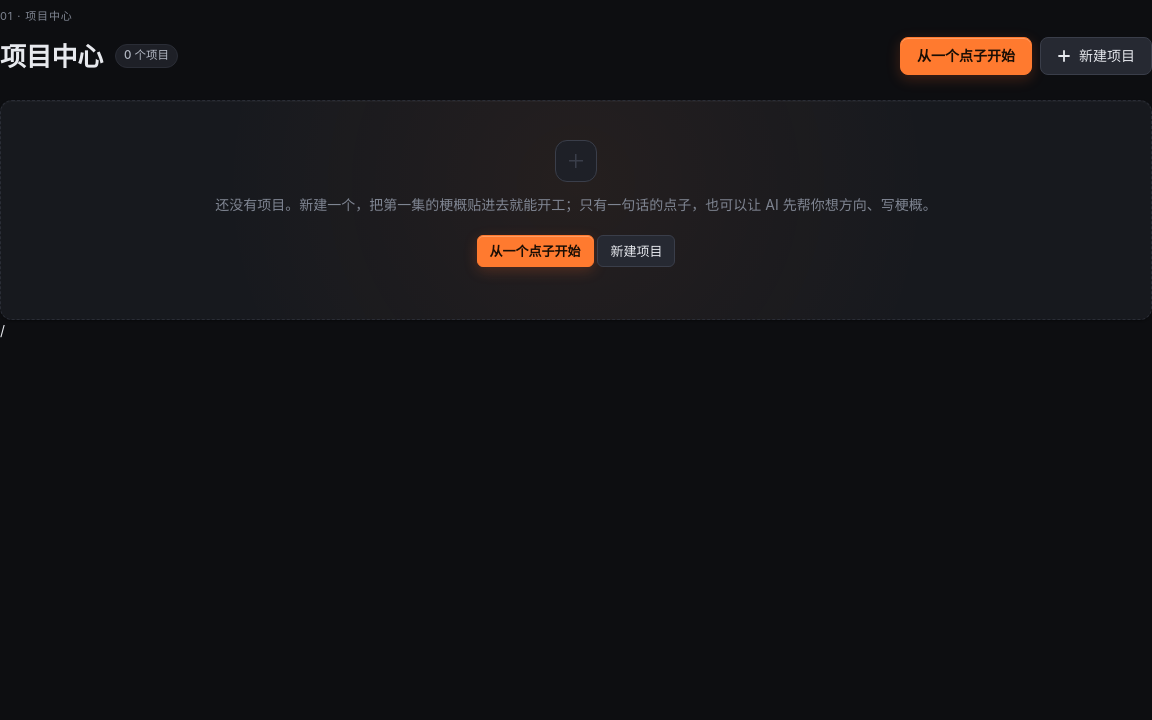
Test: ProjectsPage › 新建项目：设置页明确设了图片引擎、且在预设推荐的引擎里时用设置的
The image size is (1152, 720).
Click the button "新建项目" in the row of "个项目": (1096, 56) [1040,37,1151,75]
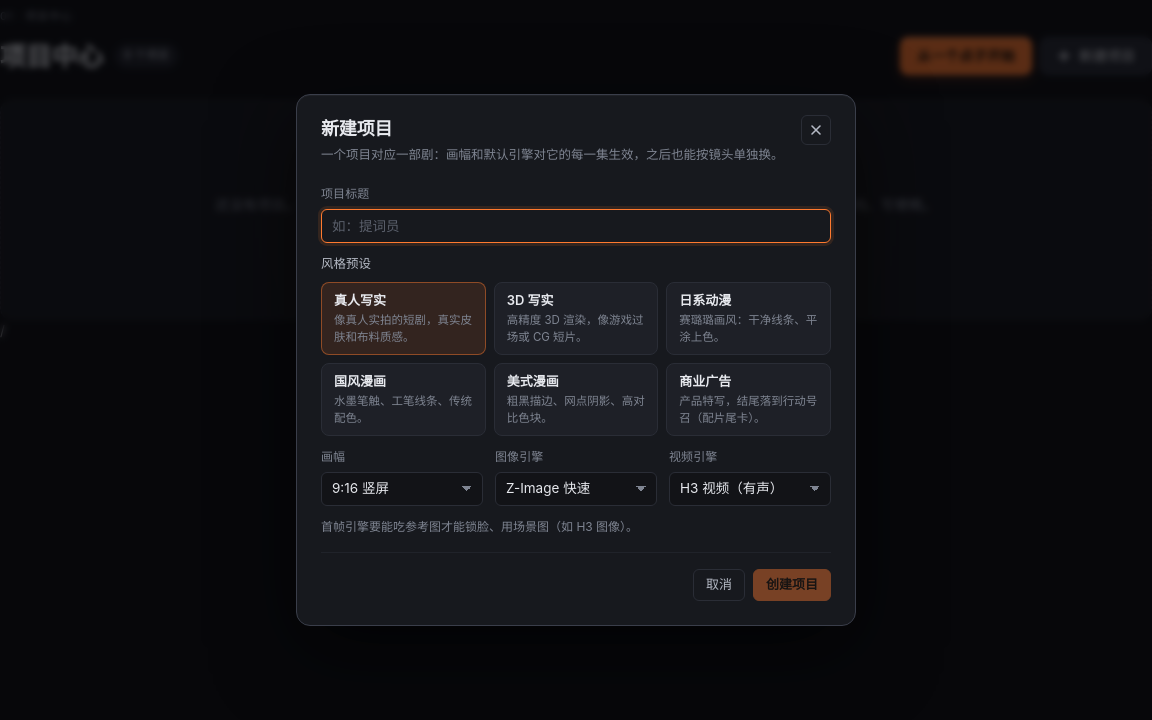
Expected: the dropdown labelled "图像引擎" shows "Z-Image 快速", [495,472,657,506]
